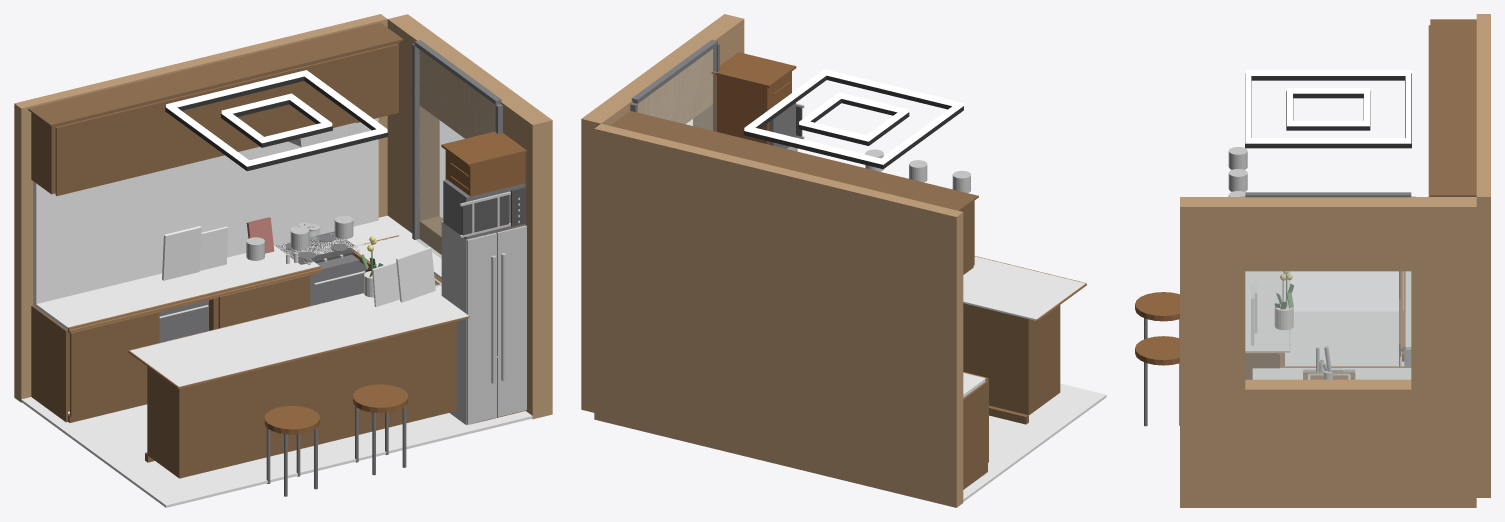
Rendered from kitchen-test.glb.
3 views of the same model, side by side, from view 1: azimuth 30°, elevation 25°; view 2: azimuth 150°, elevation 25°; view 3: azimuth 270°, elevation 25° (orthographic). The views are drawn at different scales.
Visible parts, largest first — view 1: FUR_r02_backsplash, FUR_r02_bar_body, ARC_Floor_r02_kitchen, FUR_r02_bar_counter, ARC_Wall_N_Kitchen, ARC_Wall_E_PierS, FUR_r02_cab_upper_crown_step, ARC_Win_W_KIT_OUTER_Glass, FUR_r02_ctr_main, ARC_Wall_E_PierN, FUR_r02_cab_upper_door_1, ARC_Wall_E_Lintel (+46 smaller); view 2: ARC_Wall_N_Kitchen, FUR_r02_cab_upper_crown_step, FUR_r02_bar_door_1, ARC_Wall_E_PierN, FUR_r02_bar_counter, ARC_Floor_r02_kitchen, ARC_Wall_E_Lintel, ARC_Win_W_KIT_OUTER_Glass, FUR_r02_cab_tall, FUR_r02_bar_body, FUR_r02_cab_lower_n_sideW, ARC_Wall_E_PierS (+10 smaller); view 3: ARC_Wall_E_Sill, ARC_Wall_E_PierN, ARC_Wall_E_PierS, ARC_Win_W_KIT_OUTER_Glass, ARC_Wall_E_Lintel, FUR_r02_cab_upper_crown_step, ARC_Wall_N_Kitchen, ARC_Floor_r02_kitchen, FUR_r02_bar_counter, FUR_r02_bar_stool_2_seat, FUR_r02_bar_stool_1_seat, IOT_LIGHT_PROFILE_KITCHEN_OUTER_E (+17 smaller).
Boxes of the visible parts, x1,y1,x2,y2 form: FUR_r02_backsplash: [33, 118, 378, 303]; FUR_r02_bar_body: [148, 321, 456, 478]; ARC_Floor_r02_kitchen: [21, 397, 532, 507]; FUR_r02_bar_counter: [129, 291, 468, 388]; ARC_Wall_N_Kitchen: [14, 14, 387, 402]; ARC_Wall_E_PierS: [500, 97, 552, 419]; FUR_r02_cab_upper_crown_step: [28, 22, 403, 126]; ARC_Win_W_KIT_OUTER_Glass: [416, 47, 495, 257]; FUR_r02_ctr_main: [33, 243, 319, 330]; ARC_Wall_E_PierN: [387, 14, 439, 232]; FUR_r02_cab_upper_door_1: [55, 106, 142, 195]; ARC_Wall_E_Lintel: [419, 37, 520, 138]; ARC_Wall_N_Kitchen: [594, 123, 963, 507]; FUR_r02_cab_upper_crown_step: [610, 111, 978, 210]; FUR_r02_bar_door_1: [963, 303, 1029, 414]; ARC_Wall_E_PierN: [581, 96, 632, 412]; FUR_r02_bar_counter: [963, 256, 1085, 320]; ARC_Floor_r02_kitchen: [963, 383, 1106, 501]; ARC_Wall_E_Lintel: [613, 37, 712, 123]; ARC_Win_W_KIT_OUTER_Glass: [638, 46, 716, 131]; FUR_r02_cab_tall: [713, 71, 791, 144]; FUR_r02_bar_body: [1029, 305, 1060, 414]; FUR_r02_cab_lower_n_sideW: [963, 381, 987, 489]; ARC_Wall_E_PierS: [693, 14, 744, 130]; ARC_Wall_E_Sill: [1245, 379, 1411, 507]; ARC_Wall_E_PierN: [1411, 197, 1476, 507]; ARC_Wall_E_PierS: [1180, 197, 1245, 507]; ARC_Win_W_KIT_OUTER_Glass: [1245, 271, 1410, 379]; ARC_Wall_E_Lintel: [1245, 197, 1411, 271]; FUR_r02_cab_upper_crown_step: [1430, 19, 1476, 196]; ARC_Wall_N_Kitchen: [1476, 14, 1490, 497]; ARC_Floor_r02_kitchen: [1285, 311, 1404, 372]; FUR_r02_bar_counter: [1245, 271, 1290, 352]; FUR_r02_bar_stool_2_seat: [1135, 336, 1179, 365]; FUR_r02_bar_stool_1_seat: [1135, 292, 1179, 321]; IOT_LIGHT_PROFILE_KITCHEN_OUTER_E: [1245, 138, 1411, 143].
Size of the model in its own units: 3.85 by 2.82 by 3.
